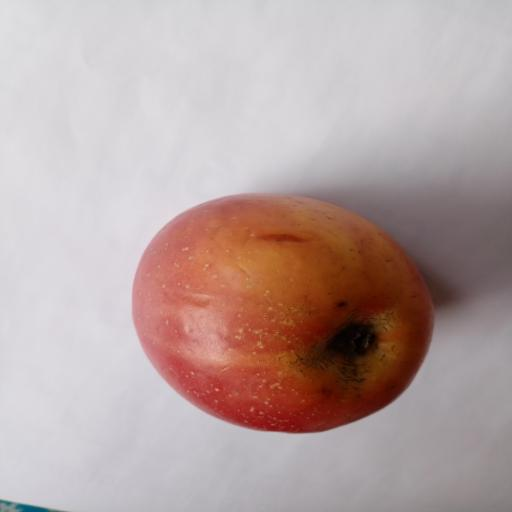apple-ripe: (120, 180, 441, 454)
